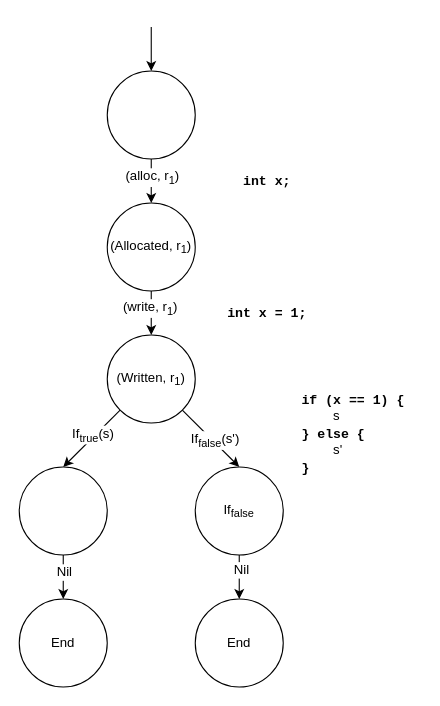
This 440x706 diagram has some shape labels left out. The centre of each missing label's shape, as x and y in pixels:
Entry: point (150, 114)
If true: point (62, 510)
